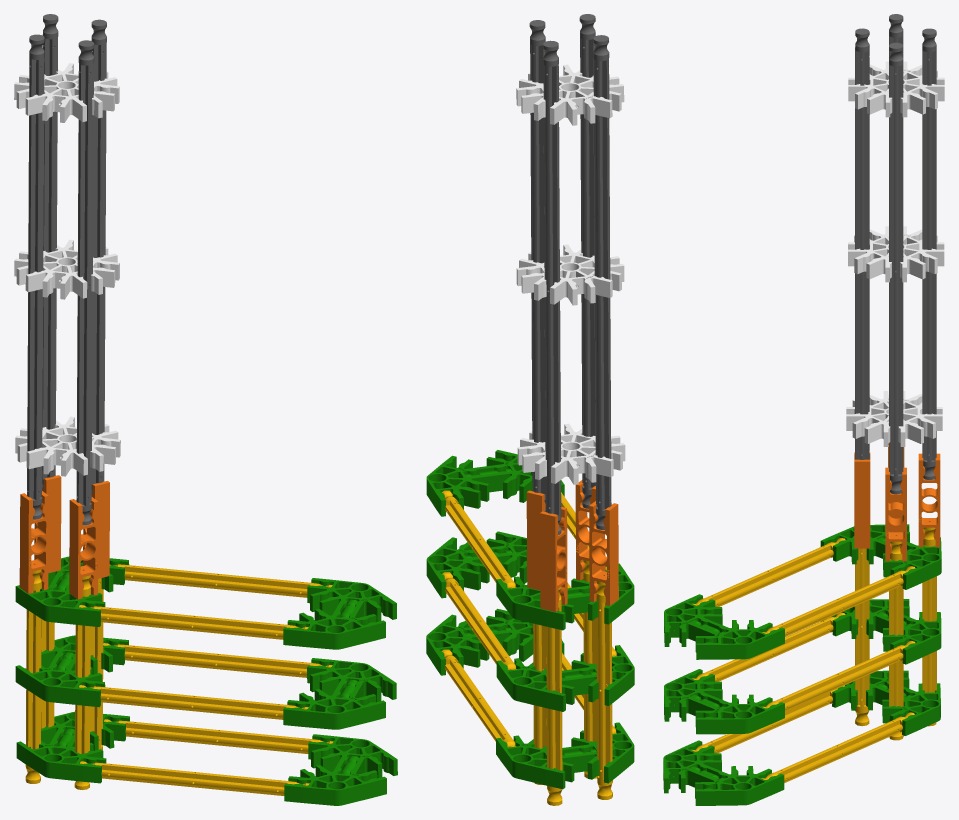
The picture shows the model from 3 angles, left to right: view 1: azimuth 30°, elevation 25°; view 2: azimuth 150°, elevation 25°; view 3: azimuth 270°, elevation 25°; orthographic projection. The views are drawn at different scales.
Parts seen in each view (by area): view 1: xP3_L02_3, xP3_L02_3.004, xP3_L02_3.002, xP3_L02_3.001, xP3_L02_3.003; view 2: xP3_L02_3, xP3_L02_3.002, xP3_L02_3.004, xP3_L02_3.001, xP3_L02_3.003; view 3: xP3_L02_3, xP3_L02_3.002, xP3_L02_3.004, xP3_L02_3.001, xP3_L02_3.003.
Part boxes in pixels (x1=…): xP3_L02_3: x1=15, y1=556, x2=397, y2=805; xP3_L02_3.004: x1=25, y1=564, x2=333, y2=795; xP3_L02_3.002: x1=27, y1=14, x2=106, y2=525; xP3_L02_3.001: x1=14, y1=63, x2=120, y2=476; xP3_L02_3.003: x1=19, y1=475, x2=109, y2=599; xP3_L02_3: x1=426, y1=450, x2=634, y2=789; xP3_L02_3.002: x1=529, y1=14, x2=611, y2=534; xP3_L02_3.004: x1=441, y1=490, x2=616, y2=805; xP3_L02_3.001: x1=516, y1=64, x2=625, y2=484; xP3_L02_3.003: x1=526, y1=480, x2=618, y2=611; xP3_L02_3: x1=663, y1=524, x2=941, y2=805; xP3_L02_3.002: x1=855, y1=14, x2=936, y2=494; xP3_L02_3.004: x1=691, y1=527, x2=936, y2=782; xP3_L02_3.001: x1=846, y1=61, x2=944, y2=446; xP3_L02_3.003: x1=854, y1=443, x2=940, y2=561.
Bounding box in the file's own units: 1.24 × 3.29 × 1.21.
